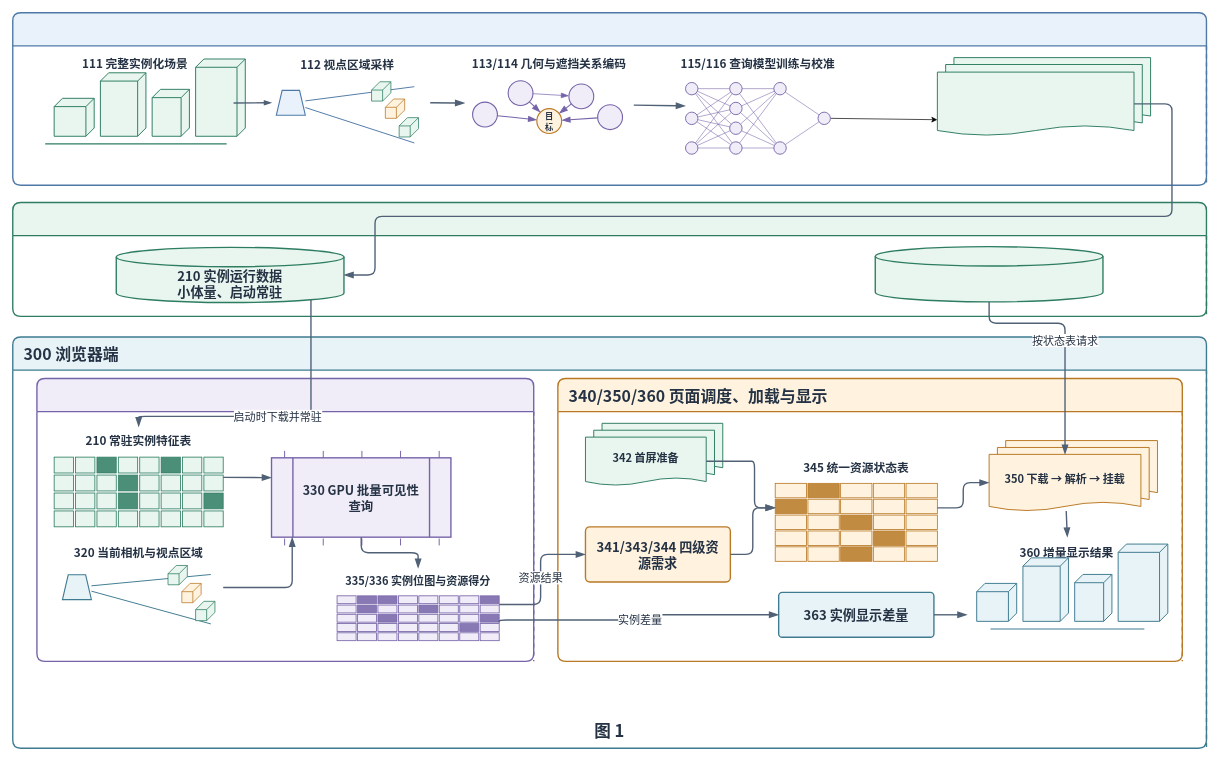
Image size: 1219x760. Some labels were removed from this diagram. Here are the shapes that lost their labels. From the top down, the box of each, then its label:
(12, 12, 1207, 186): 100 离线处理端
(937, 71, 1134, 136): 117 浏览器运行包 特征、包围体、映射与权重
(12, 201, 1207, 317): 200 资源服务端
(874, 246, 1103, 302): 220 主体模型资源 几何、材质与纹理
(36, 377, 534, 662): 330 后台可见性计算
